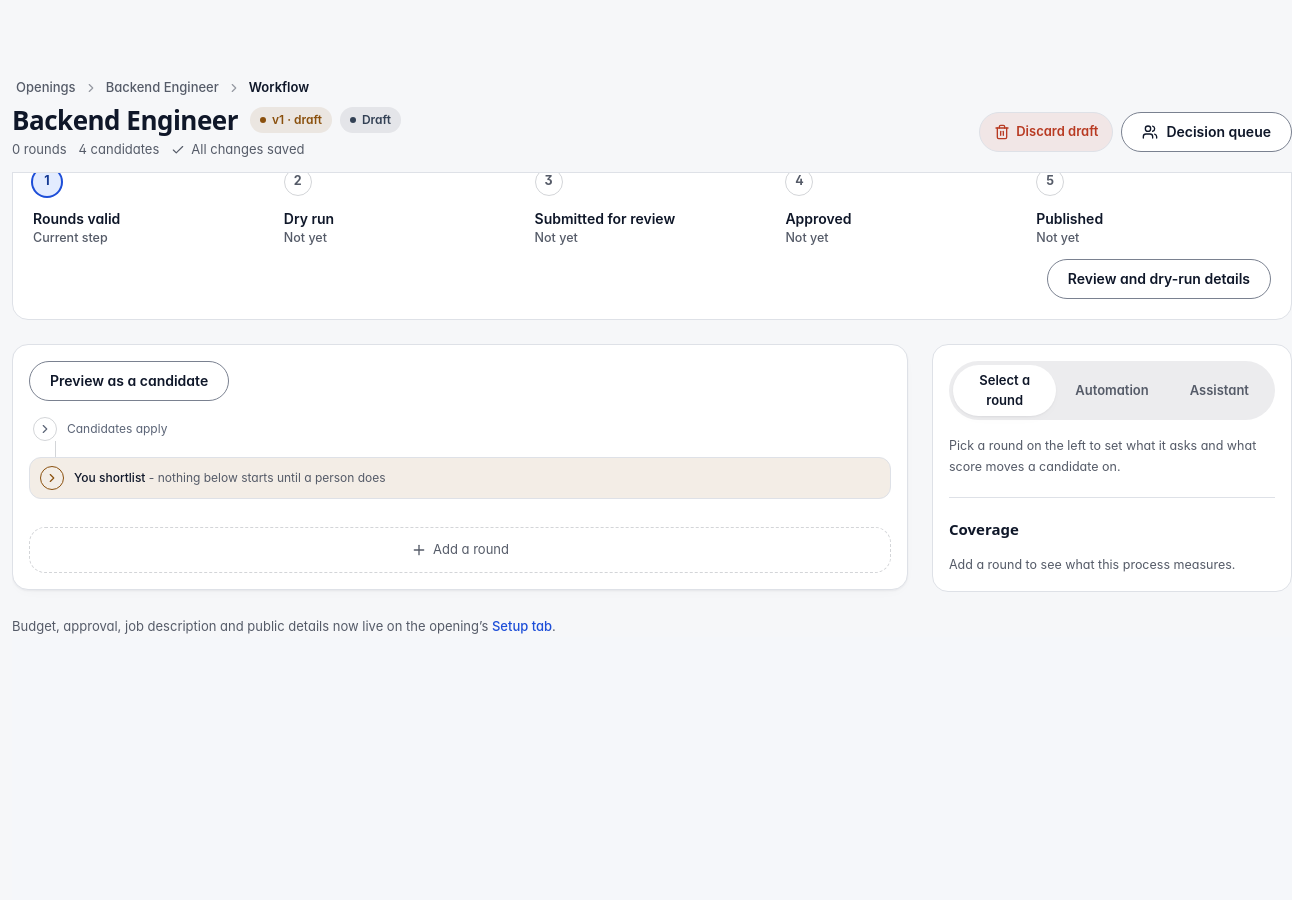
WorkflowCopilot - citations (PH5-E1) › cautions rather than confirms when a record was read but nothing is attributed
Click the tab "Assistant" at (1219,391), box x1=1168 y1=365 x2=1271 y2=416
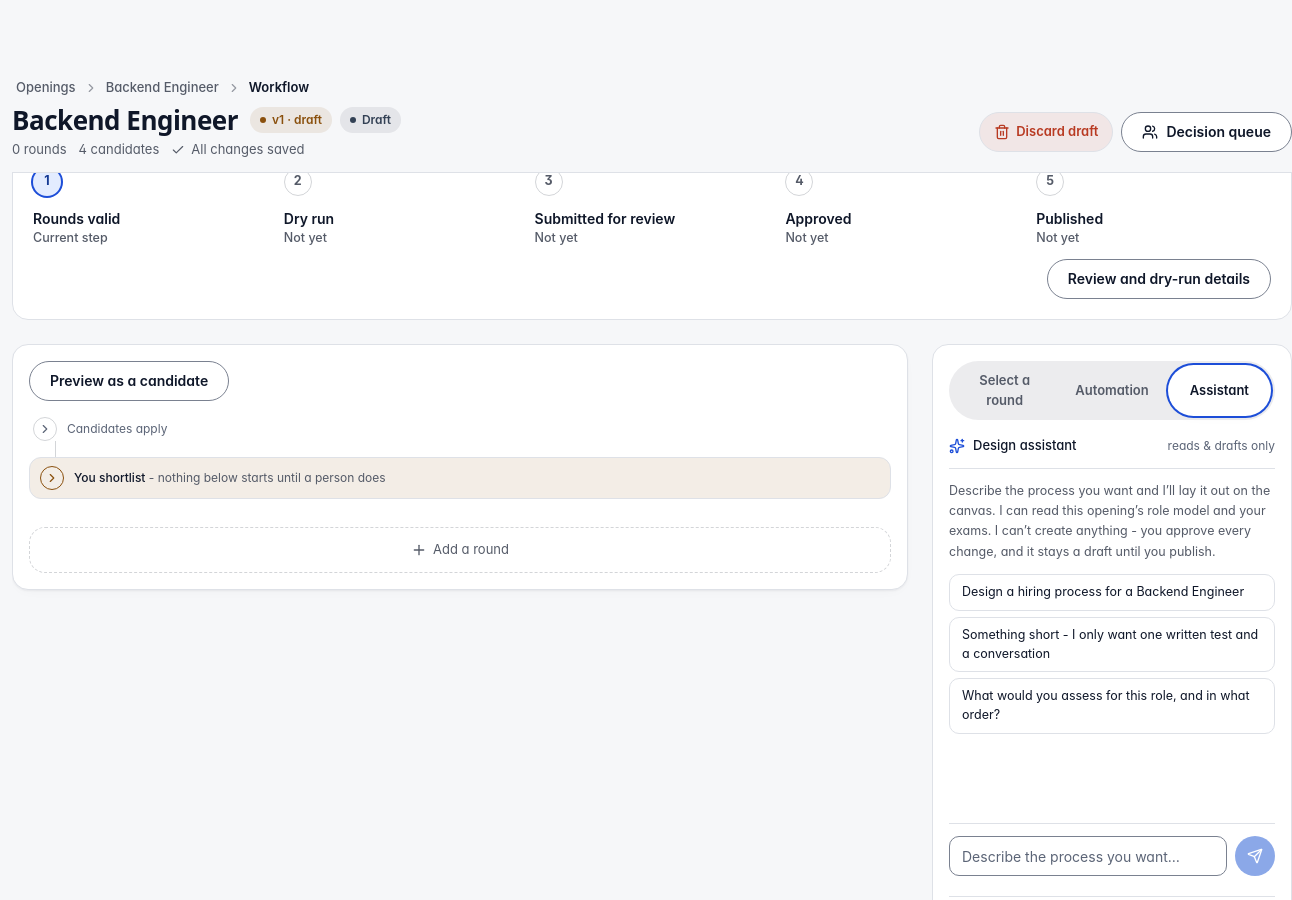
Type "what does the role model weigh most?" into the field named "Ask the design assistant" at (1088,856), box x1=949 y1=836 x2=1227 y2=876
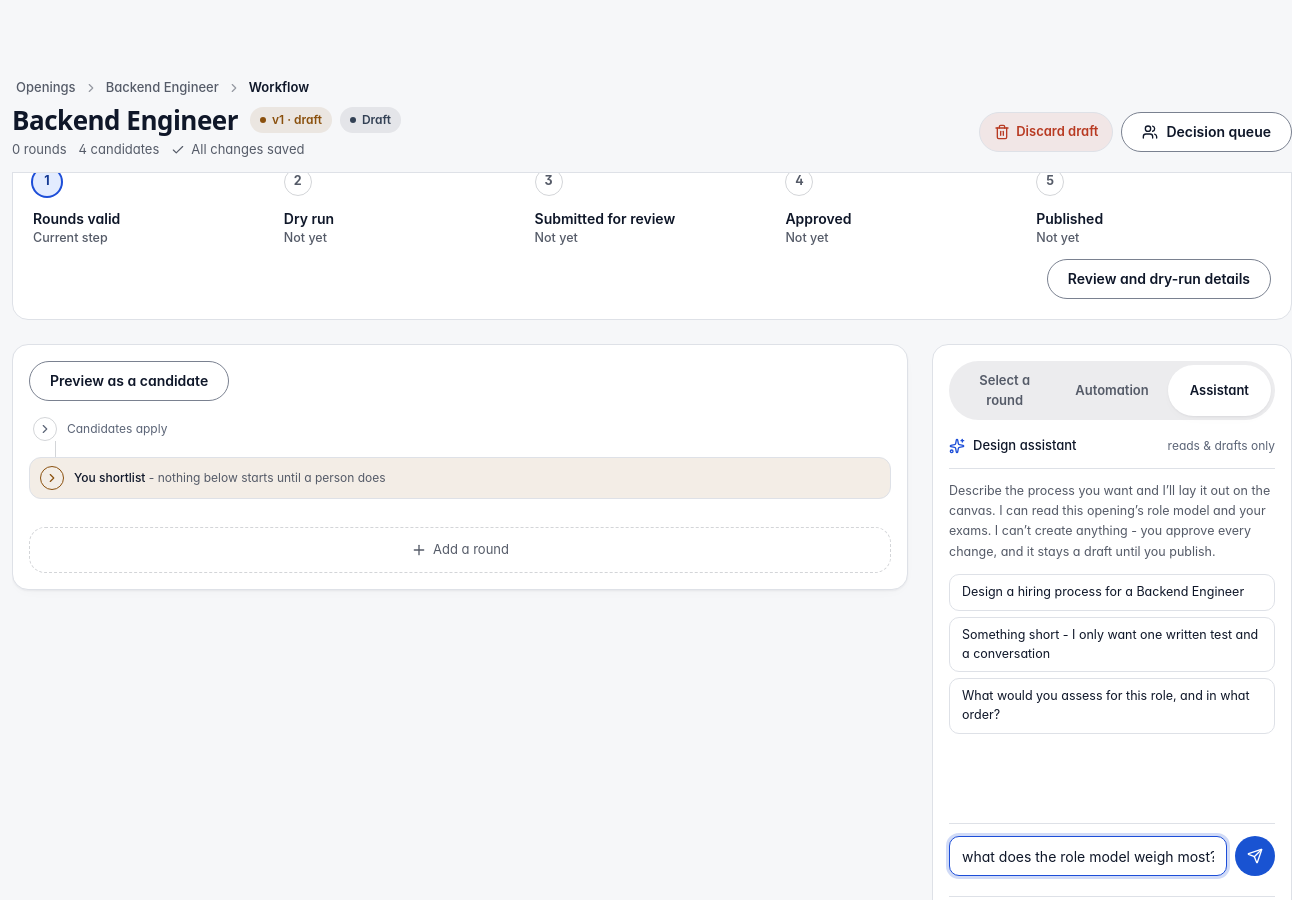
Click the button named "Send" at (1255,856), box x1=1235 y1=836 x2=1275 y2=876
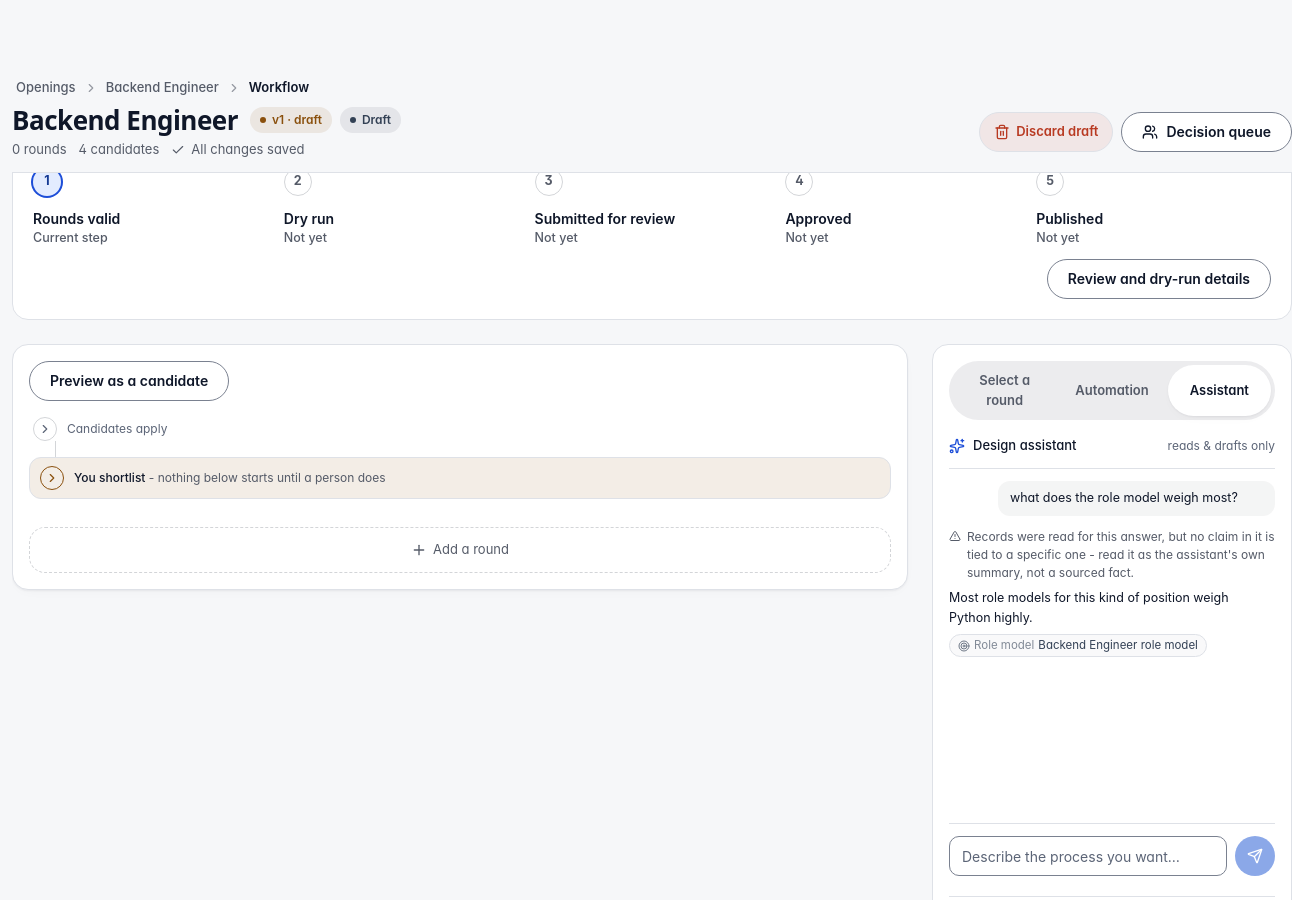
Check: the text "Records were read for this answer, but no claim in it is tied" is shown, box x1=967 y1=528 x2=1275 y2=580
